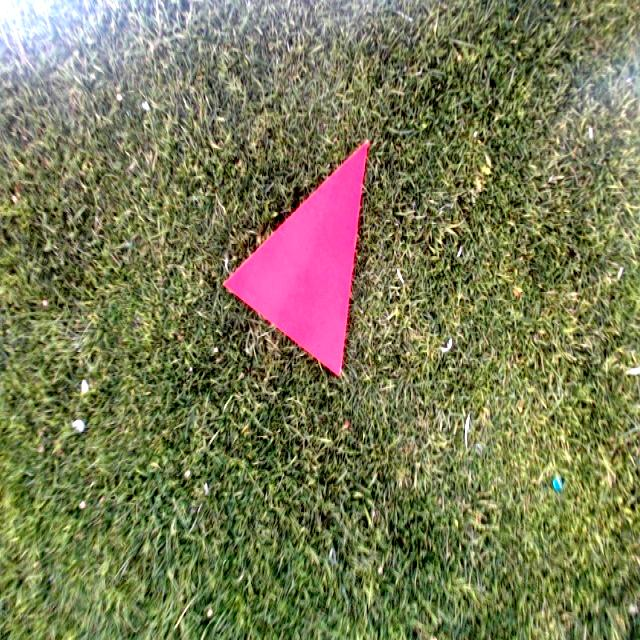red_triangle: (223, 138, 371, 376)
